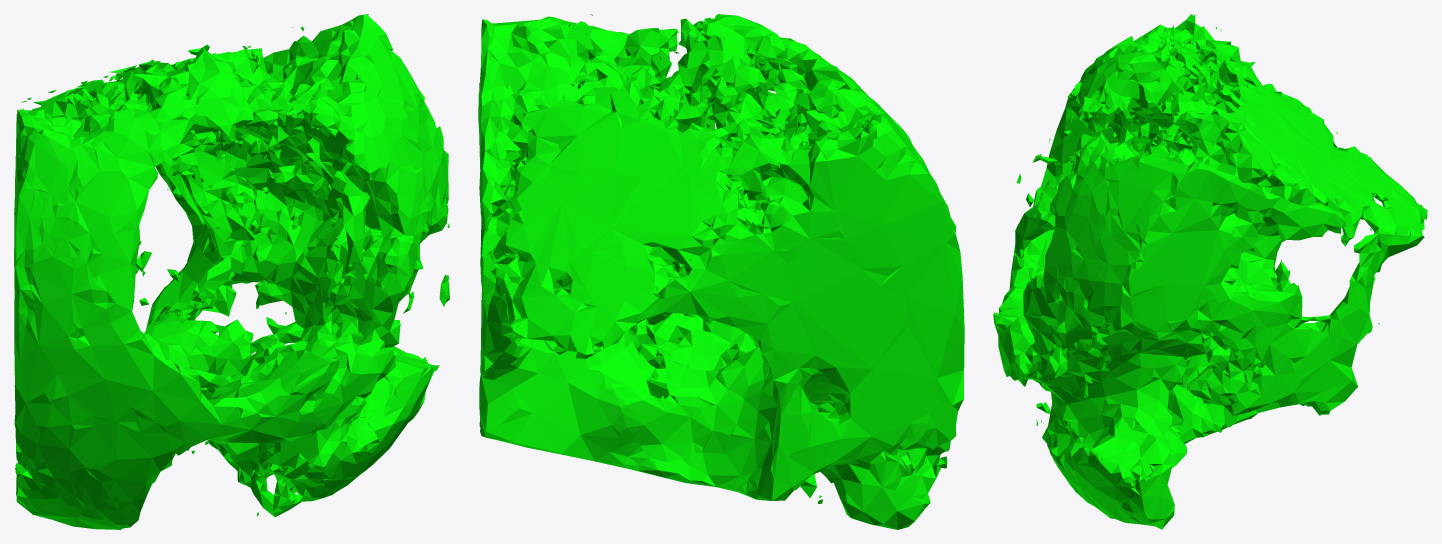
Rendered from B939XXXX-1_base_26.obj.
The picture shows the model from 3 angles, left to right: view 1: azimuth 30°, elevation 25°; view 2: azimuth 150°, elevation 25°; view 3: azimuth 270°, elevation 25°; orthographic projection. The views are drawn at different scales.
Visible parts, largest first — view 1: 26_base; view 2: 26_base; view 3: 26_base.
Part boxes in pixels (bbox=[...]): 26_base: bbox=[14, 14, 449, 529]; 26_base: bbox=[478, 14, 964, 529]; 26_base: bbox=[993, 14, 1427, 529].
Size of the model in its own units: 216 by 213 by 203.
